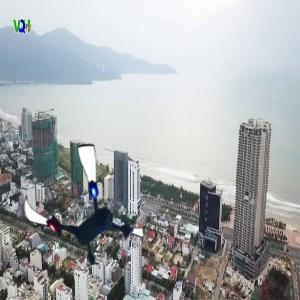drone: (18, 146, 148, 276)
